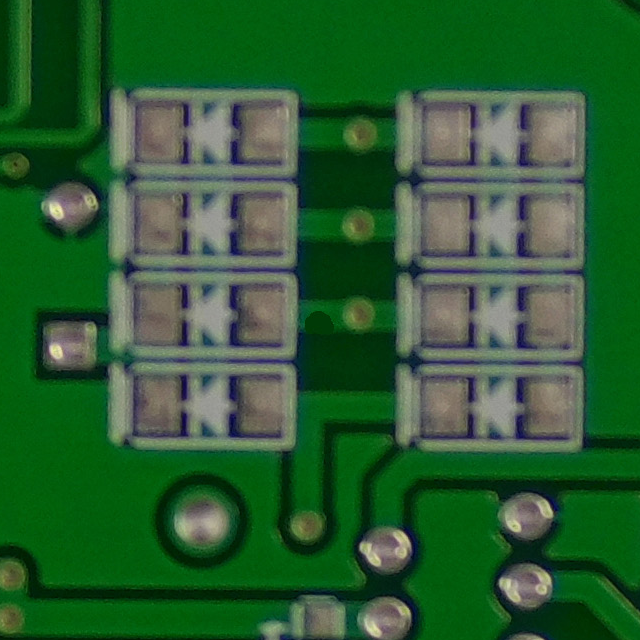mouse_bite: (294, 295, 346, 345)
